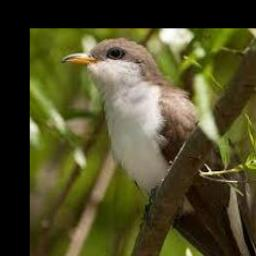Cuckoo: (61, 37, 256, 256)
